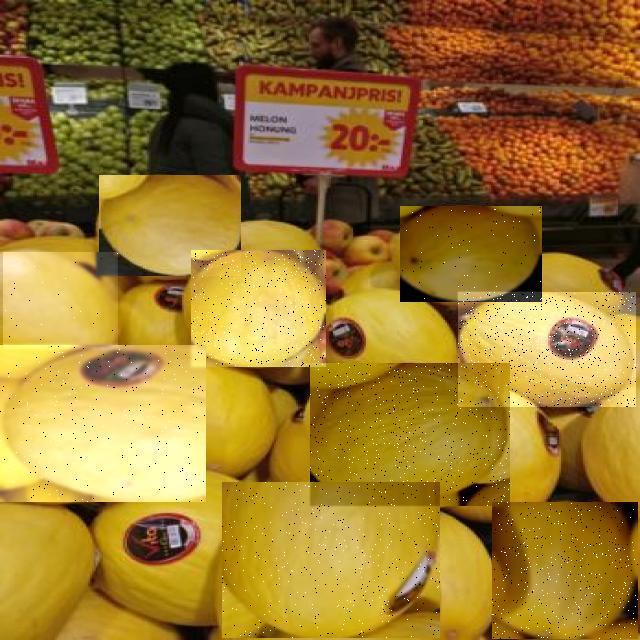Honey Dew: (222, 482, 440, 638), (0, 345, 206, 502), (310, 363, 510, 506), (458, 292, 636, 407), (493, 502, 639, 639), (191, 250, 326, 367), (99, 175, 241, 276), (401, 206, 543, 302), (4, 252, 120, 349)
